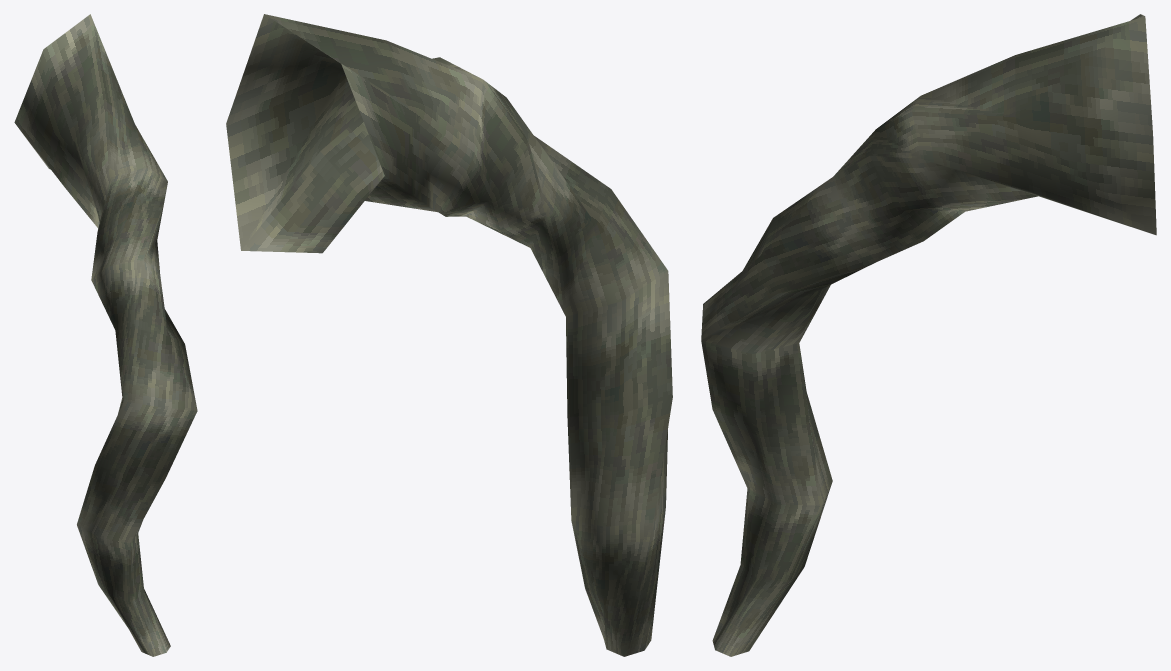
The model's file is TROLLHOLE02_ROOTMAINA12.fbx.
The picture shows the model from 3 angles, left to right: view 1: azimuth 30°, elevation 25°; view 2: azimuth 150°, elevation 25°; view 3: azimuth 270°, elevation 25°; orthographic projection. The views are drawn at different scales.
Visible parts, largest first — view 1: TROLLHOLE02_ROOTMAINA12; view 2: TROLLHOLE02_ROOTMAINA12; view 3: TROLLHOLE02_ROOTMAINA12.
Boxes of the visible parts, x1,y1,x2,y2 form: TROLLHOLE02_ROOTMAINA12: (14,14,197,656); TROLLHOLE02_ROOTMAINA12: (226,14,672,656); TROLLHOLE02_ROOTMAINA12: (701,14,1156,656).
Size of the model in its own units: 6197 by 19036 by 11422.
1 material, 1 textured.
